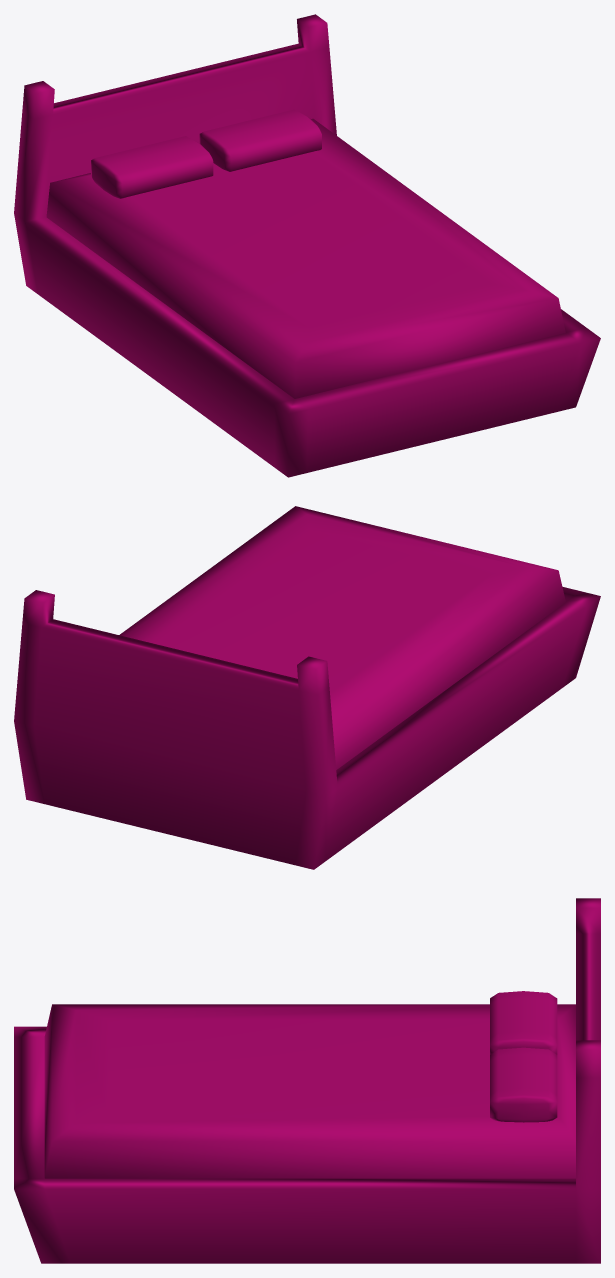
File: bed_low.fbx
The picture shows the model from 3 angles, top to bottom: view 1: azimuth 30°, elevation 25°; view 2: azimuth 150°, elevation 25°; view 3: azimuth 270°, elevation 25°; orthographic projection. The views are drawn at different scales.
Parts seen in each view (by area): view 1: c02_low, c01_low, c03_low; view 2: c01_low, c02_low; view 3: c02_low, c01_low, c03_low.
Part boxes in pixels (x1=…): c02_low: x1=46, y1=118, x2=565, y2=398; c01_low: x1=14, y1=14, x2=600, y2=477; c03_low: x1=91, y1=109, x2=321, y2=198; c01_low: x1=14, y1=586, x2=600, y2=869; c02_low: x1=119, y1=506, x2=565, y2=769; c02_low: x1=44, y1=1004, x2=575, y2=1178; c01_low: x1=14, y1=898, x2=600, y2=1263; c03_low: x1=490, y1=991, x2=557, y2=1122.
Bounding box in the file's own units: 5.72 × 3.52 × 8.72.
